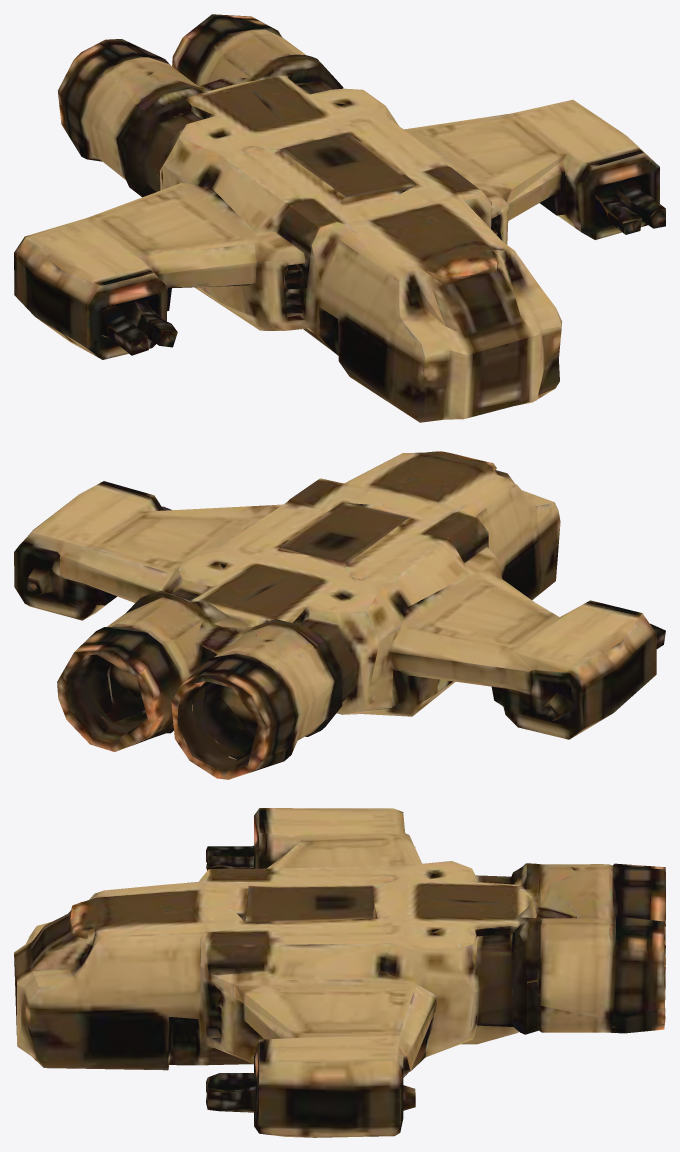
Rendered from enemy-heavy-s2.glb.
The picture shows the model from 3 angles, top to bottom: view 1: azimuth 30°, elevation 25°; view 2: azimuth 150°, elevation 25°; view 3: azimuth 270°, elevation 25°; orthographic projection. The views are drawn at different scales.
Visible parts, largest first — view 1: 9adbb147-c497-479b-8c6b-6f7a91005b4a_texturing.obj; view 2: 9adbb147-c497-479b-8c6b-6f7a91005b4a_texturing.obj; view 3: 9adbb147-c497-479b-8c6b-6f7a91005b4a_texturing.obj.
Part boxes in pixels (bbox=[...]): 9adbb147-c497-479b-8c6b-6f7a91005b4a_texturing.obj: bbox=[14, 14, 665, 422]; 9adbb147-c497-479b-8c6b-6f7a91005b4a_texturing.obj: bbox=[14, 451, 665, 779]; 9adbb147-c497-479b-8c6b-6f7a91005b4a_texturing.obj: bbox=[14, 808, 665, 1137].
Size of the model in its own units: 1.99 by 0.486 by 1.99.
1 material, 1 textured.
